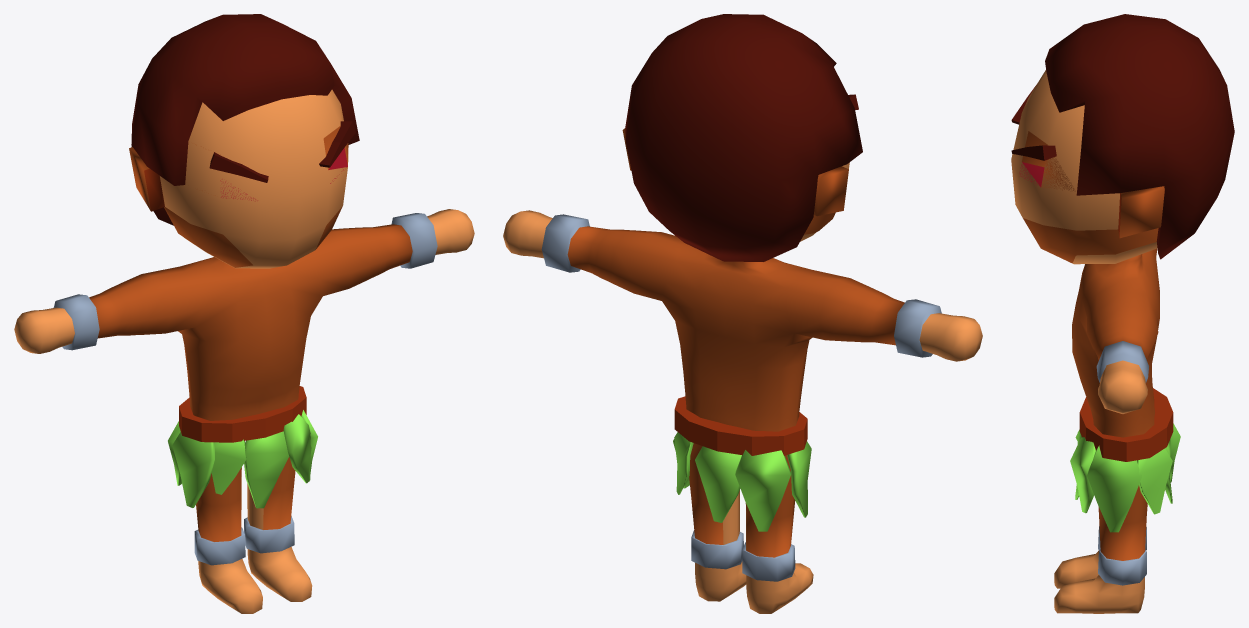
Rendered from Tribal 1.fbx.
3 renders of one model, left to right at view 1: azimuth 30°, elevation 25°; view 2: azimuth 150°, elevation 25°; view 3: azimuth 270°, elevation 25°, orthographic. The views are drawn at different scales.
Parts seen in each view (by area): view 1: Enemy 1, Main Character, Cube.003, Cube; view 2: Enemy 1, Cube.003, Main Character; view 3: Enemy 1, Main Character, Cube.003, Cube.
Boxes of the visible parts, x1,y1,x2,y2 form: Enemy 1: (53,14,437,565); Main Character: (14,89,474,613); Cube.003: (168,386,317,508); Cube: (209,121,355,182); Enemy 1: (541,14,941,581); Cube.003: (673,396,811,531); Main Character: (503,162,982,613); Enemy 1: (1019,14,1234,585); Main Character: (1011,70,1157,613); Cube.003: (1070,388,1180,532); Cube: (1011,86,1056,160).
Size of the model in its own units: 181 by 214 by 75.84.
